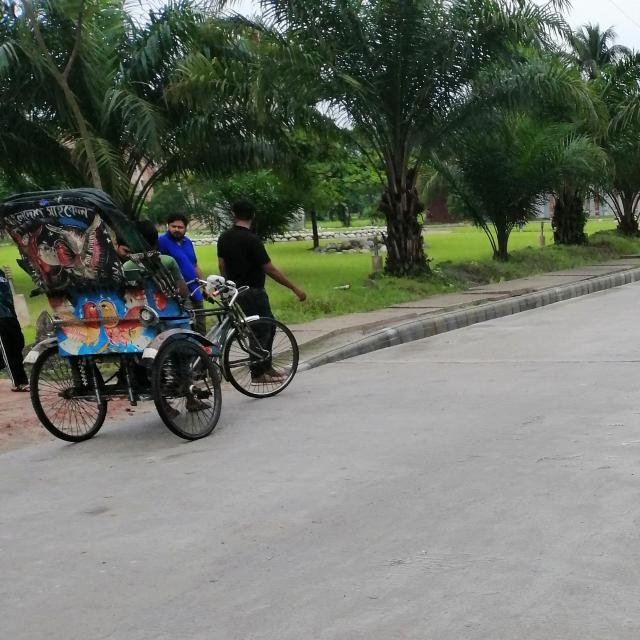Rickshaw: (1, 191, 304, 447)
